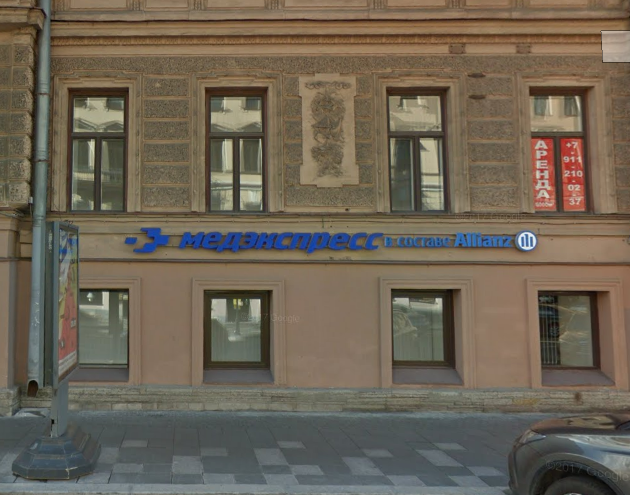signboard: (121, 216, 543, 269)
window: (387, 86, 450, 213), (206, 89, 268, 215), (533, 290, 615, 385), (527, 89, 588, 212), (66, 85, 125, 210), (387, 290, 460, 383), (203, 287, 272, 384), (76, 289, 129, 379)
